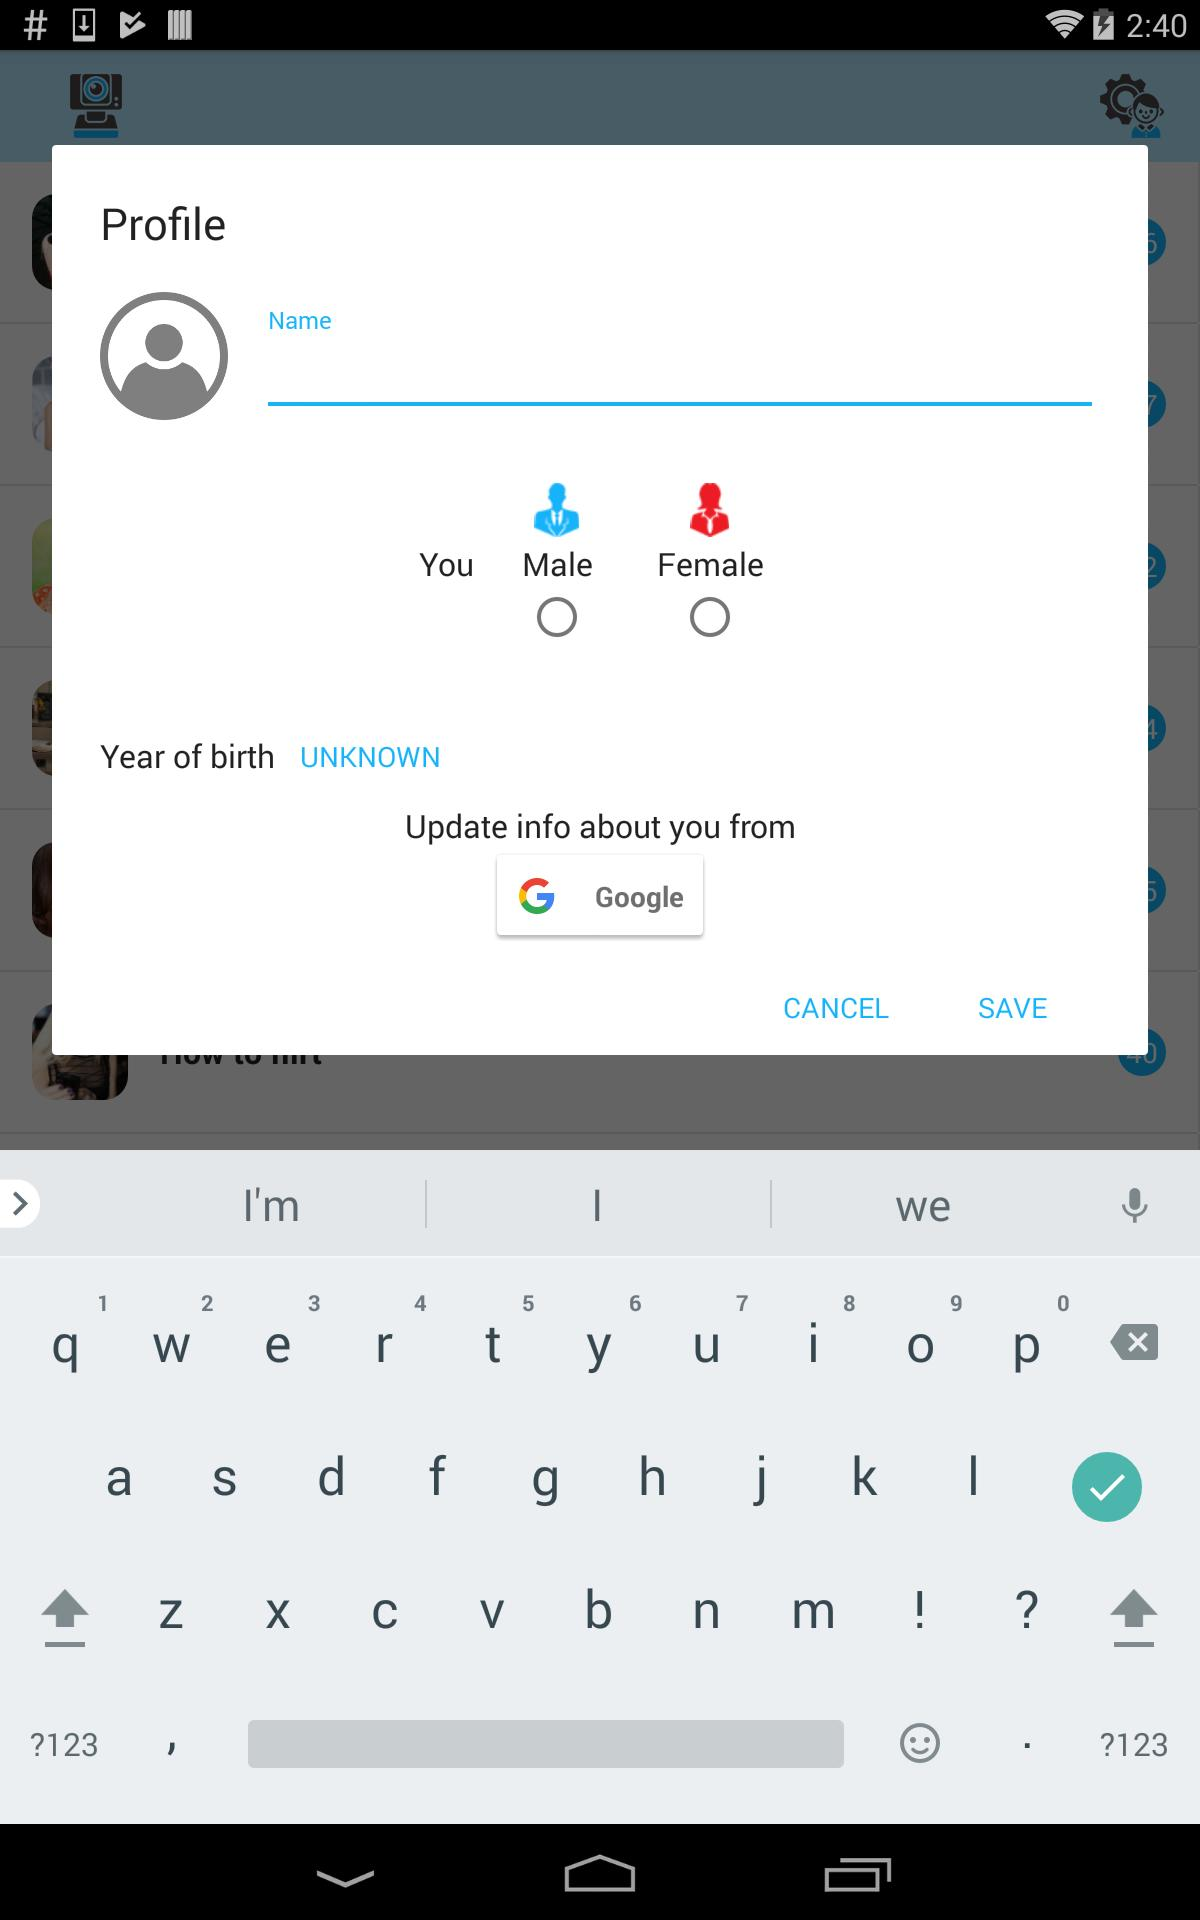android.widget.Button: (276, 708, 1100, 804), (489, 847, 711, 943), (924, 959, 1100, 1055), (748, 959, 924, 1055)
android.widget.EditText: (260, 329, 1100, 420)
android.widget.FrameLayout: (19, 113, 1181, 1086), (53, 145, 1147, 1055), (260, 329, 1100, 420), (489, 847, 711, 943)
android.widget.ImageView: (100, 292, 228, 420), (509, 462, 606, 558), (662, 462, 758, 558)
android.widget.LinearLayout: (53, 145, 1147, 1055), (404, 420, 796, 708), (260, 307, 1100, 420), (625, 478, 796, 650), (489, 478, 625, 650)
android.widget.RadioButton: (677, 585, 742, 650), (525, 585, 589, 650)
android.widget.RelativeLayout: (53, 145, 1147, 1055), (100, 292, 1100, 943)
android.widget.ScrollView: (100, 292, 1100, 1055)
android.widget.TextView: (100, 194, 1100, 252), (100, 708, 276, 804), (404, 804, 796, 847), (625, 542, 796, 585), (489, 542, 625, 585), (419, 542, 474, 585)
